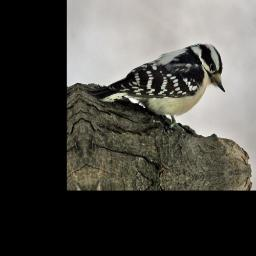Woodpecker: (79, 39, 233, 150)
